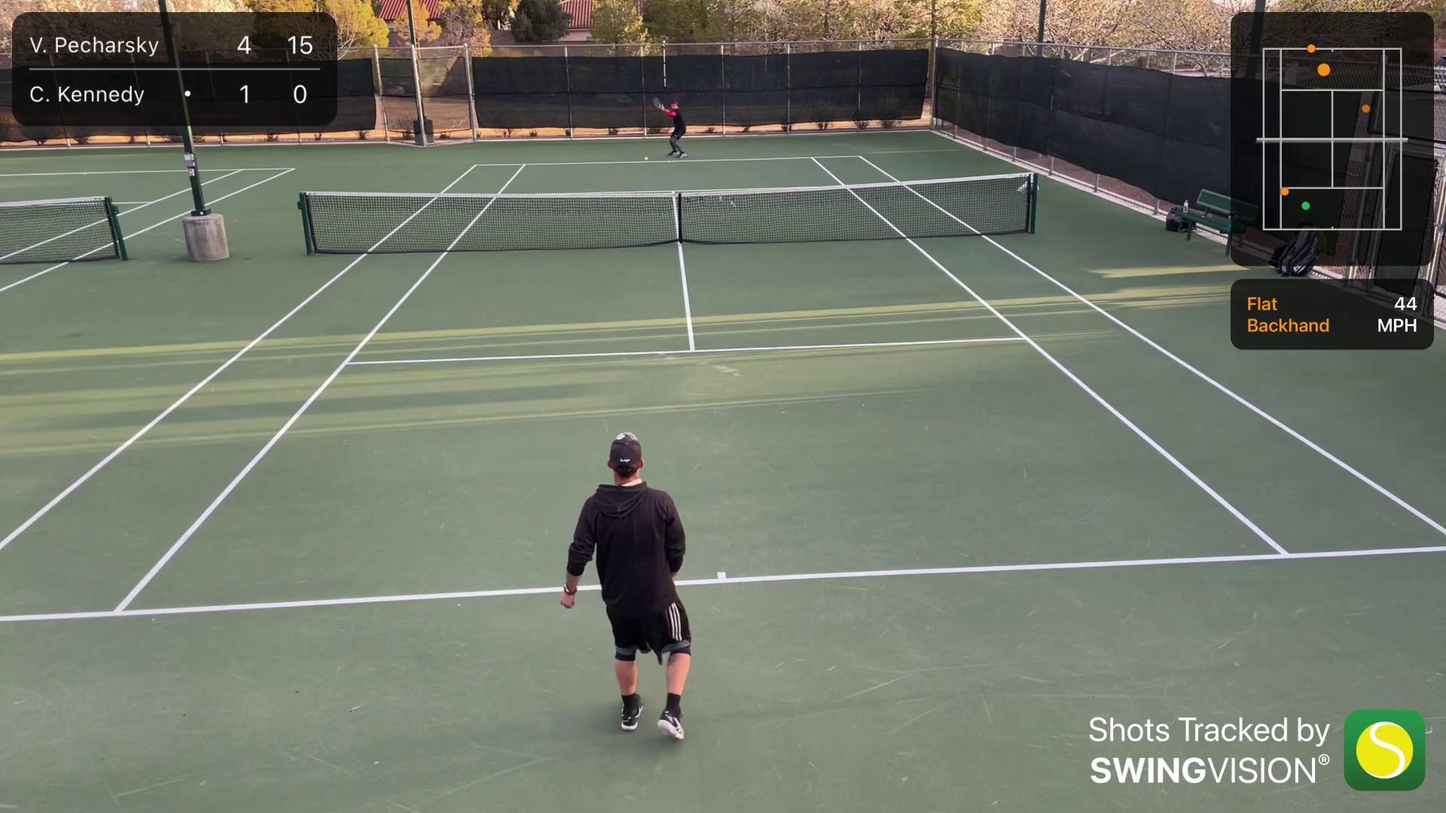ball: (643, 155, 650, 161)
